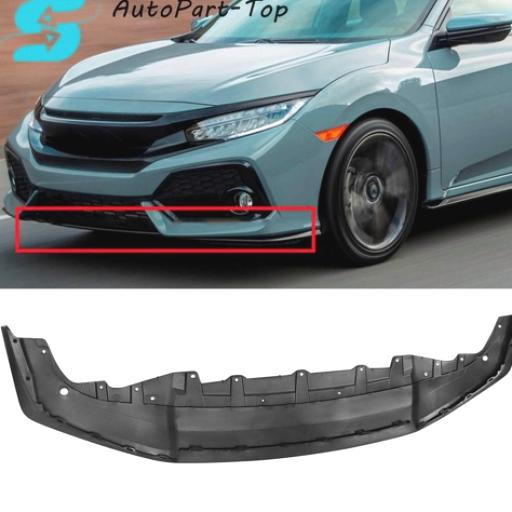hatchback: (5, 0, 512, 264)
